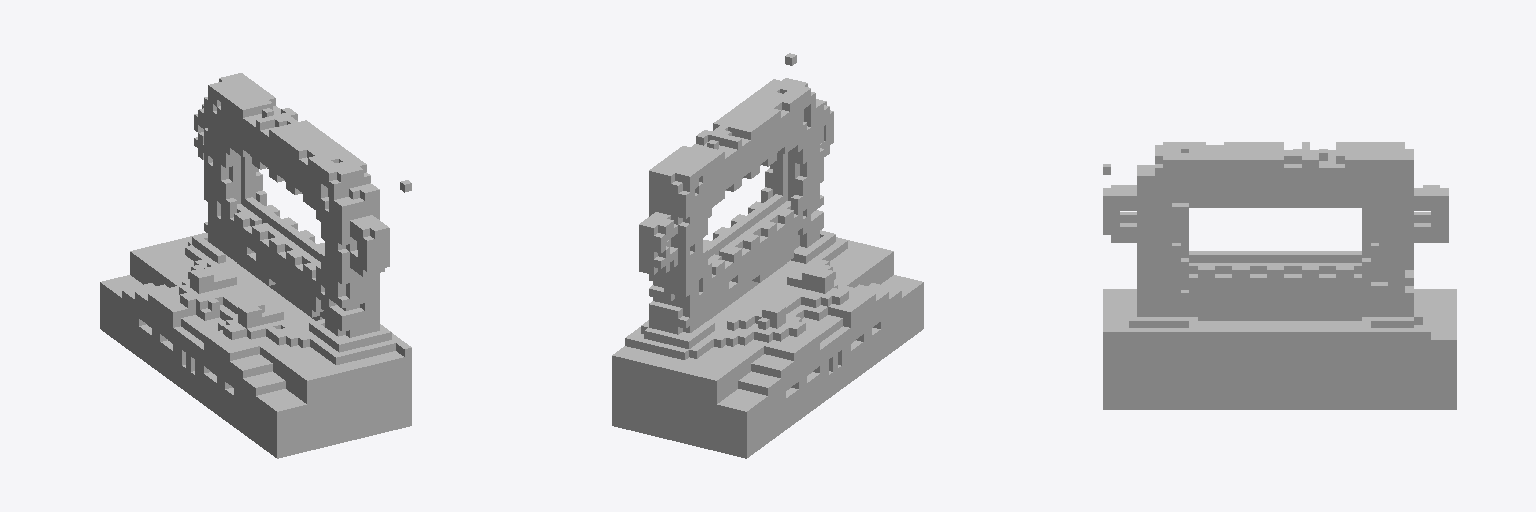
File: city_center_1.obj
The picture shows the model from 3 angles: view 1: azimuth 30°, elevation 25°; view 2: azimuth 150°, elevation 25°; view 3: azimuth 270°, elevation 25°; orthographic projection.
Parts seen in each view (by area): view 1: city_center_1; view 2: city_center_1; view 3: city_center_1.
Part boxes in pixels (left/top/right/bottom): city_center_1: left=100, top=73, right=411, bottom=458; city_center_1: left=612, top=53, right=923, bottom=458; city_center_1: left=1103, top=142, right=1456, bottom=409.
Size of the model in its own units: 18 by 31 by 41.